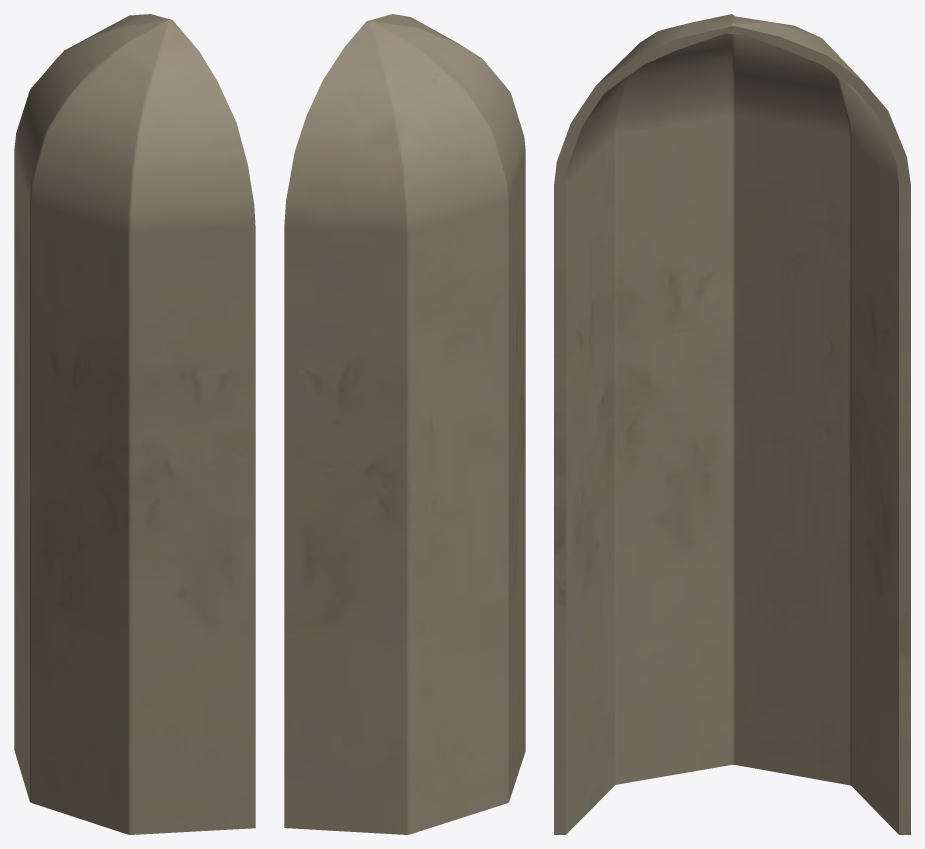
The model's file is ding2_ea44c5.glb.
The picture shows the model from 3 angles, left to right: view 1: azimuth 30°, elevation 25°; view 2: azimuth 150°, elevation 25°; view 3: azimuth 270°, elevation 25°; orthographic projection. The views are drawn at different scales.
Parts seen in each view (by area): view 1: ding2; view 2: ding2; view 3: ding2.
Boxes of the visible parts, box(x1,y1,x2,y2) form: ding2: box(14, 14, 255, 834); ding2: box(284, 14, 525, 834); ding2: box(554, 14, 910, 834).
Size of the model in its own units: 2.03 by 10.18 by 4.07.
1 material, 1 textured.
